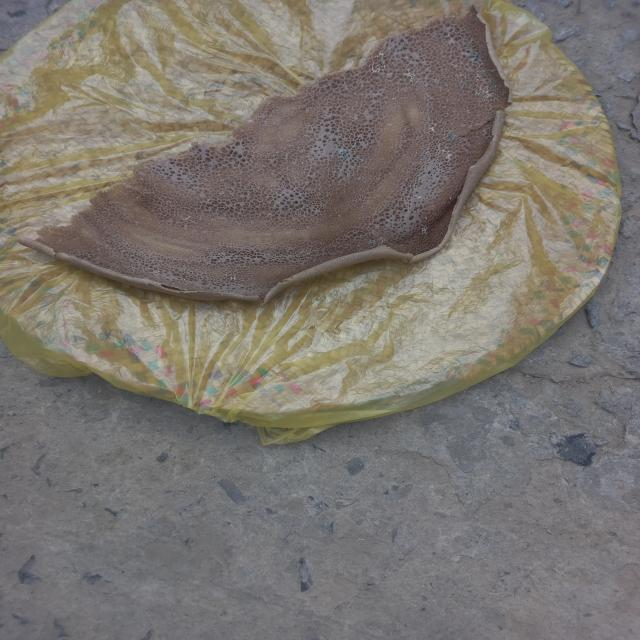injera_mold: (473, 86, 494, 100), (401, 68, 418, 84), (442, 149, 454, 163), (369, 64, 387, 73), (419, 226, 431, 235), (459, 82, 470, 90), (445, 133, 455, 141), (374, 52, 386, 58), (456, 73, 468, 79), (470, 56, 482, 62), (476, 70, 488, 76), (488, 80, 499, 86), (429, 124, 437, 131), (486, 133, 494, 140), (339, 152, 348, 158), (368, 240, 377, 245), (356, 157, 364, 162), (379, 237, 385, 243), (358, 176, 365, 181), (230, 276, 238, 280), (466, 49, 472, 54), (415, 136, 420, 140), (387, 123, 393, 126), (423, 153, 427, 157), (467, 110, 471, 114), (417, 196, 422, 199), (391, 72, 393, 75), (386, 73, 388, 75)
